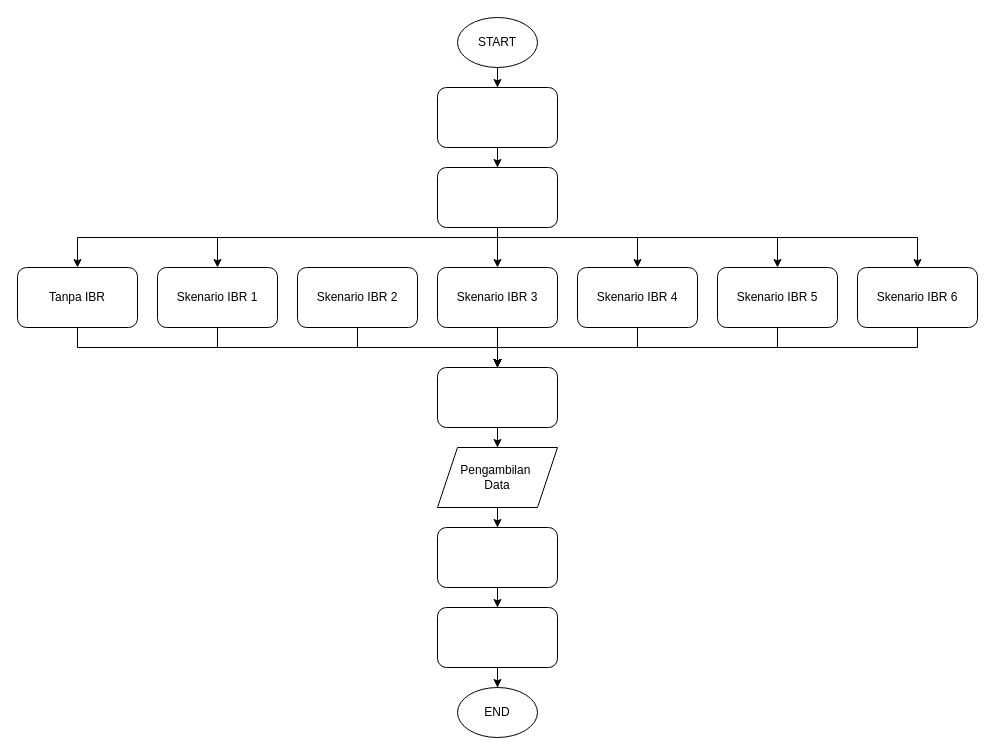
Image size: 995x755. Some labels were removed from this diagram. The shapes that lost their labels are listed below. From the top down, each one's centre as x and y in pixels, then its label:
At (497,117): "Studi Literatur".
At (497,197): "Pemodelan Sistem".
At (497,397): "Simulasi".
At (497,557): "Analisis Hasil".
At (497,637): "Kesimpulan dan Hasil".
